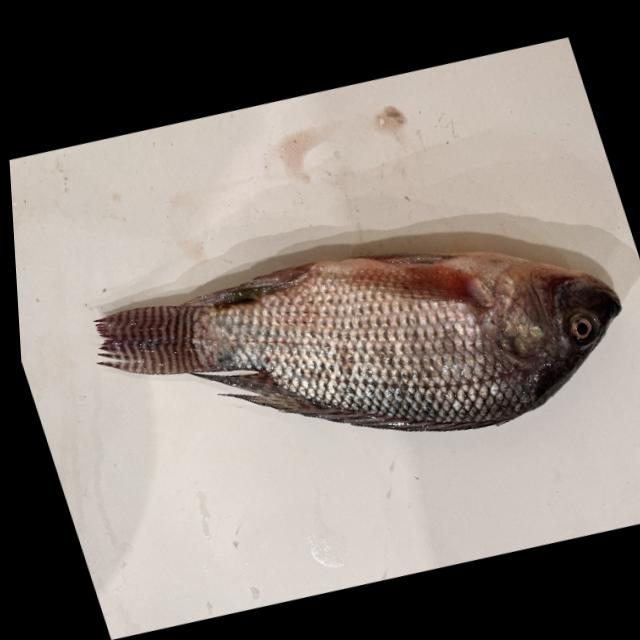Tilapia: (75, 174, 640, 525)
